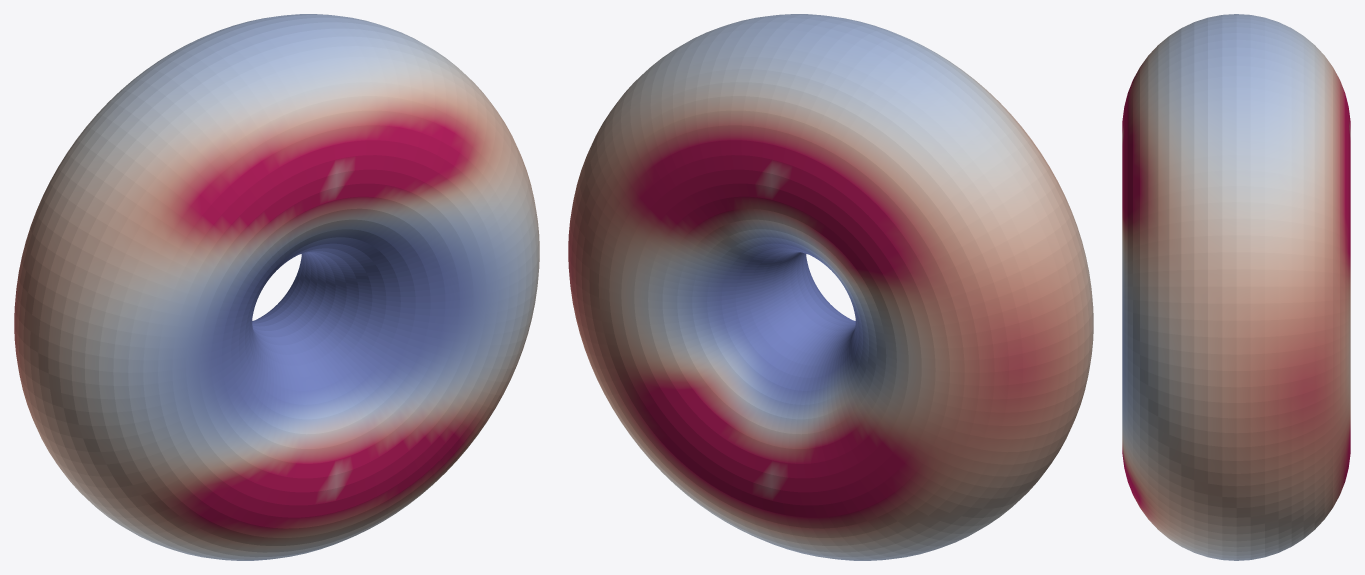
3 views of the same model, side by side, from view 1: azimuth 30°, elevation 25°; view 2: azimuth 150°, elevation 25°; view 3: azimuth 270°, elevation 25° (orthographic). The views are drawn at different scales.
Parts seen in each view (by area): view 1: world; view 2: world; view 3: world.
Boxes of the visible parts, x1,y1,x2,y2 form: world: (14,14,539,560); world: (568,14,1093,560); world: (1122,14,1350,560).
Size of the model in its own units: 19.47 by 19.47 by 8.12.
